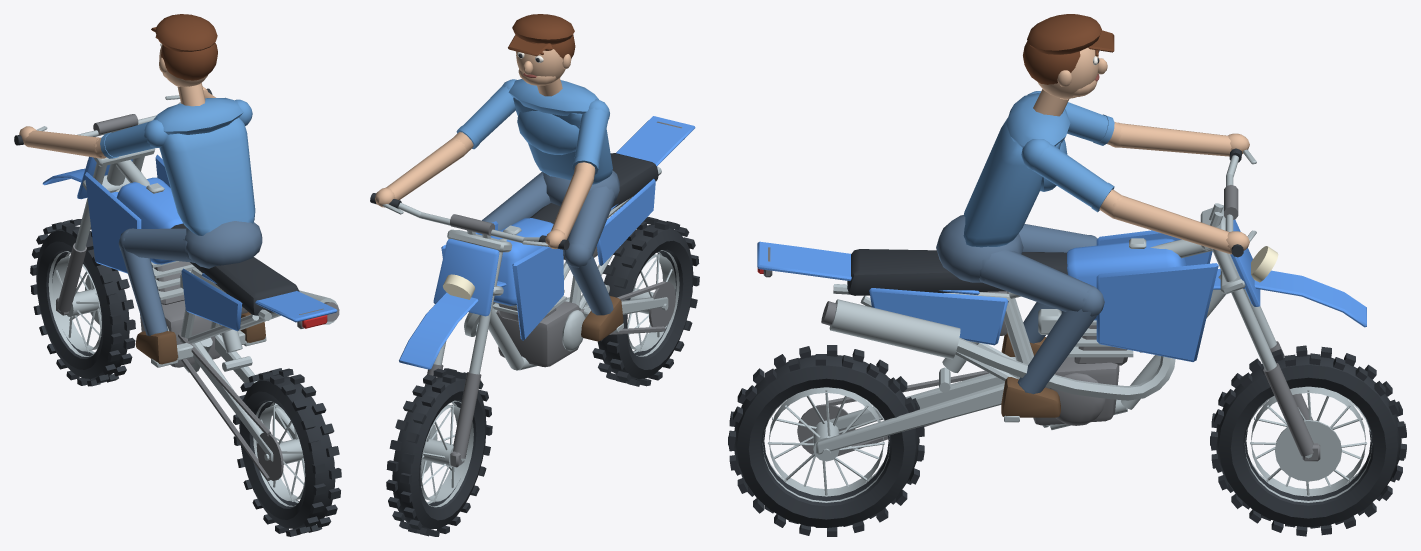
File: Needle600.fbx
3 renders of one model, left to right at view 1: azimuth 30°, elevation 25°; view 2: azimuth 150°, elevation 25°; view 3: azimuth 270°, elevation 25°, orthographic. The views are drawn at different scales.
Parts seen in each view (by area): view 1: Rider__shirt, WheelRear__rubber, Body__paint, WheelFront__rubber, Rider__trousers, Body__metal, Body__engine, Rider__hair, Body__rubber, WheelFront__metal, Rider__skin, WheelRear__metal (+5 smaller); view 2: Body__paint, Rider__shirt, WheelFront__rubber, WheelRear__rubber, Rider__trousers, Rider__skin, Front__paint, Body__metal, Body__engine, Front__metal, WheelFront__metal, Rider__hair (+6 smaller); view 3: Body__paint, Body__metal, WheelRear__rubber, WheelFront__rubber, Rider__shirt, Rider__trousers, Rider__skin, WheelFront__metal, Body__rubber, Body__engine, WheelRear__metal, Rider__hair (+5 smaller).
Part boxes in pixels (x1=…): Rider__shirt: x1=100, y1=97, x2=255, y2=235; WheelRear__rubber: x1=233, y1=368, x2=341, y2=536; Body__paint: x1=85, y1=154, x2=337, y2=331; WheelFront__rubber: x1=30, y1=219, x2=135, y2=386; Rider__trousers: x1=118, y1=221, x2=262, y2=336; Body__metal: x1=107, y1=160, x2=338, y2=461; Body__engine: x1=140, y1=261, x2=339, y2=480; Rider__hair: x1=151, y1=14, x2=217, y2=80; Body__rubber: x1=171, y1=223, x2=299, y2=315; WheelFront__metal: x1=48, y1=251, x2=101, y2=356; Rider__skin: x1=19, y1=44, x2=215, y2=158; WheelRear__metal: x1=253, y1=401, x2=305, y2=506; Body__paint: x1=441, y1=116, x2=695, y2=340; Rider__shirt: x1=456, y1=79, x2=612, y2=184; WheelFront__rubber: x1=386, y1=368, x2=492, y2=536; WheelRear__rubber: x1=592, y1=217, x2=699, y2=386; Rider__trousers: x1=482, y1=170, x2=619, y2=315; Rider__skin: x1=375, y1=49, x2=595, y2=249; Front__paint: x1=399, y1=238, x2=506, y2=369; Body__metal: x1=464, y1=166, x2=668, y2=370; Body__engine: x1=496, y1=121, x2=684, y2=367; Front__metal: x1=382, y1=202, x2=548, y2=461; WheelFront__metal: x1=420, y1=400, x2=473, y2=507; Rider__hair: x1=508, y1=14, x2=575, y2=58; Body__paint: x1=757, y1=230, x2=1218, y2=361; Body__metal: x1=816, y1=238, x2=1236, y2=456; WheelRear__rubber: x1=728, y1=345, x2=924, y2=536; WheelFront__rubber: x1=1210, y1=345, x2=1406, y2=536; Rider__shirt: x1=963, y1=91, x2=1114, y2=247; Rider__trousers: x1=936, y1=215, x2=1104, y2=394; Rider__skin: x1=1033, y1=47, x2=1249, y2=254; WheelFront__metal: x1=1244, y1=386, x2=1372, y2=502; Body__rubber: x1=847, y1=249, x2=1067, y2=295; Body__engine: x1=763, y1=247, x2=1142, y2=456; WheelRear__metal: x1=762, y1=387, x2=889, y2=502; Rider__hair: x1=1023, y1=14, x2=1114, y2=84.
Size of the model in its own units: 0.9045 by 1.92 by 2.32.
